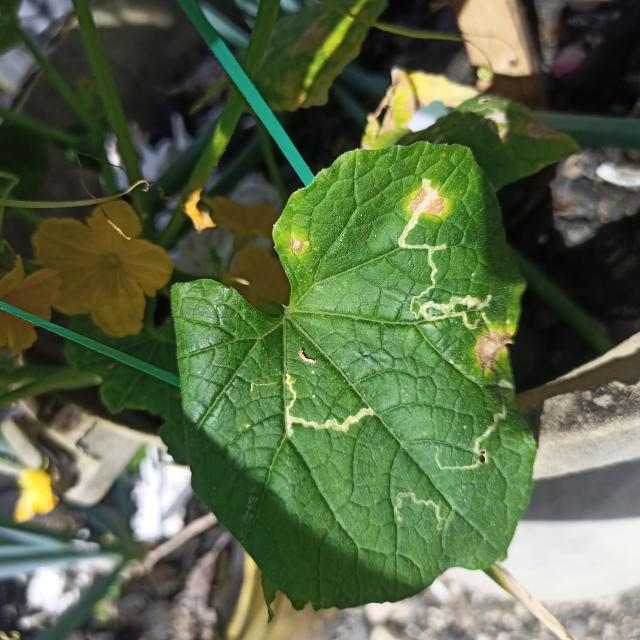disease_cucumber: (470, 327, 516, 373), (406, 184, 446, 220), (285, 233, 313, 260)
